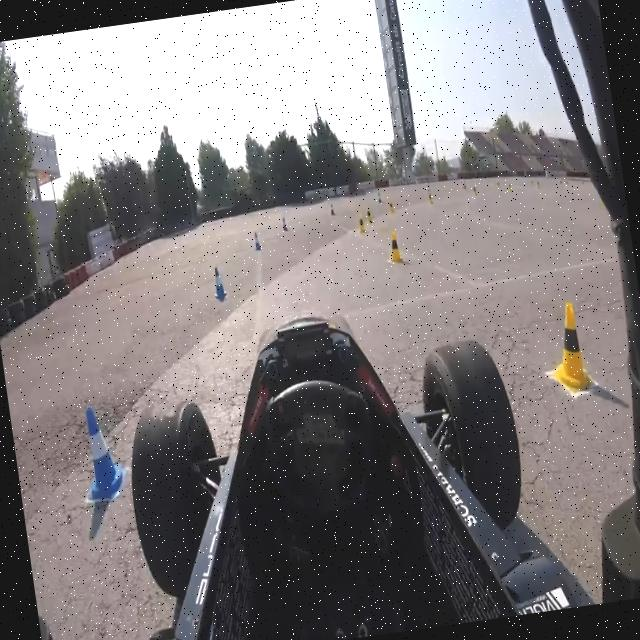blue_cone: (64, 394, 130, 512), (211, 262, 232, 304), (252, 230, 266, 253), (280, 214, 290, 237), (328, 200, 337, 218), (376, 190, 383, 204)
yellow_cone: (538, 288, 594, 400), (384, 228, 406, 266), (356, 212, 367, 234), (364, 206, 374, 226), (386, 200, 396, 218)
